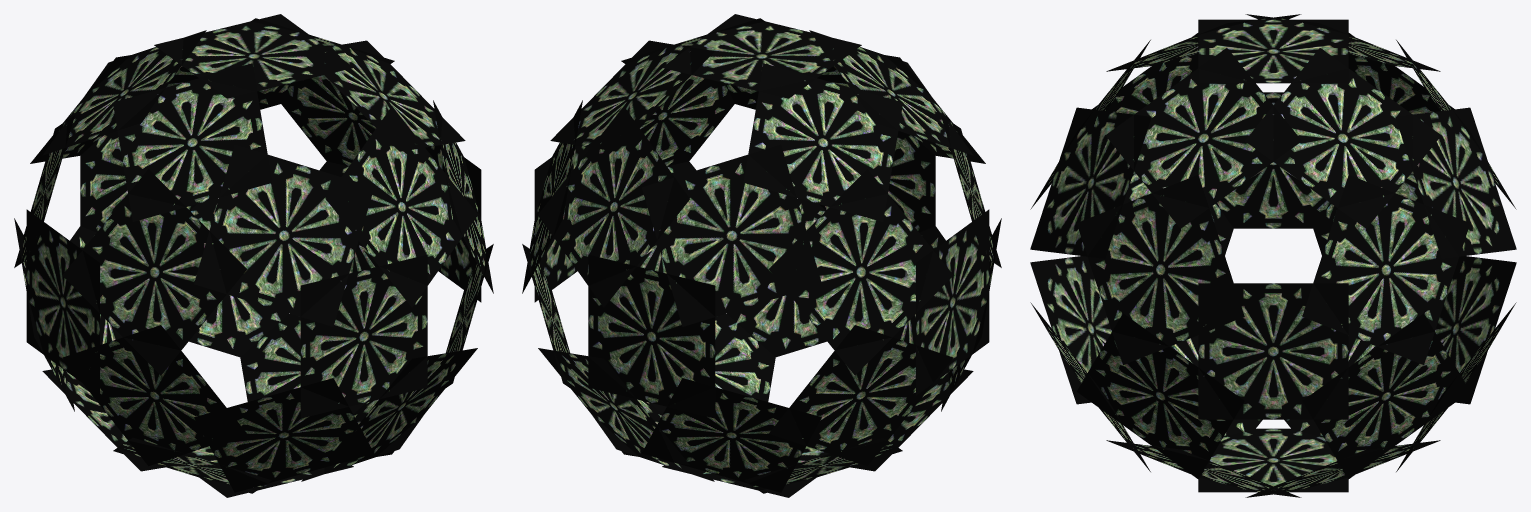
Rendered from 27TruncatedDodecadodecahedron.gltf.
3 views of the same model, side by side, from view 1: azimuth 30°, elevation 25°; view 2: azimuth 150°, elevation 25°; view 3: azimuth 270°, elevation 25° (orthographic). The views are drawn at different scales.
Visible parts, largest first — view 1: 1TruncatedDodecadodecahedron; view 2: 1TruncatedDodecadodecahedron; view 3: 1TruncatedDodecadodecahedron.
Part boxes in pixels (x1,y1,x2,y2): 1TruncatedDodecadodecahedron: (14, 14, 493, 497); 1TruncatedDodecadodecahedron: (522, 14, 1001, 497); 1TruncatedDodecadodecahedron: (1030, 14, 1516, 497).
Size of the model in its own units: 3.24 by 3.24 by 3.24.
Materials: 1 (1 with a texture image).
